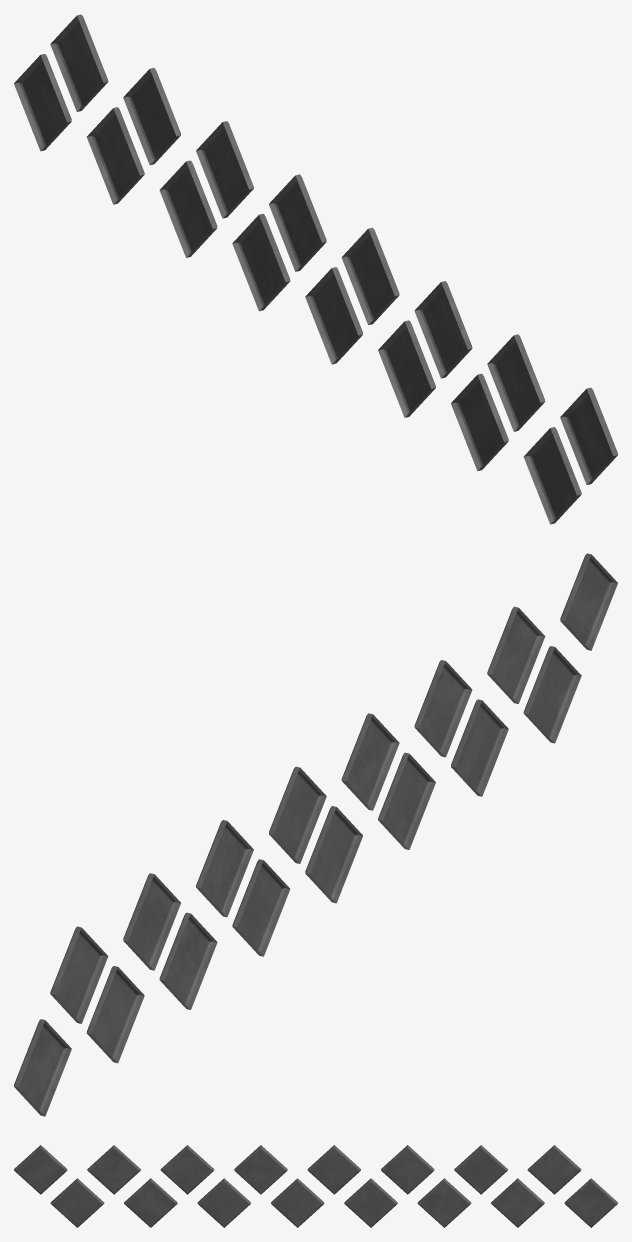
The model's file is cP_Pathway03_SteppingStoneSquare_Comb02.dae.
The picture shows the model from 3 angles, top to bottom: view 1: azimuth 30°, elevation 25°; view 2: azimuth 150°, elevation 25°; view 3: azimuth 270°, elevation 25°; orthographic projection. The views are drawn at different scales.
Parts seen in each view (by area): view 1: cP_Pathway03_SteppingStoneSquare_Comb02.001; view 2: cP_Pathway03_SteppingStoneSquare_Comb02.001; view 3: cP_Pathway03_SteppingStoneSquare_Comb02.001.
Boxes of the visible parts, left/top/right/bottom form: cP_Pathway03_SteppingStoneSquare_Comb02.001: left=14, top=14, right=617, bottom=524; cP_Pathway03_SteppingStoneSquare_Comb02.001: left=14, top=553, right=617, bottom=1116; cP_Pathway03_SteppingStoneSquare_Comb02.001: left=14, top=1145, right=617, bottom=1227.
Bounding box in the file's own units: 0.0521 × 8.23 × 1.23.
